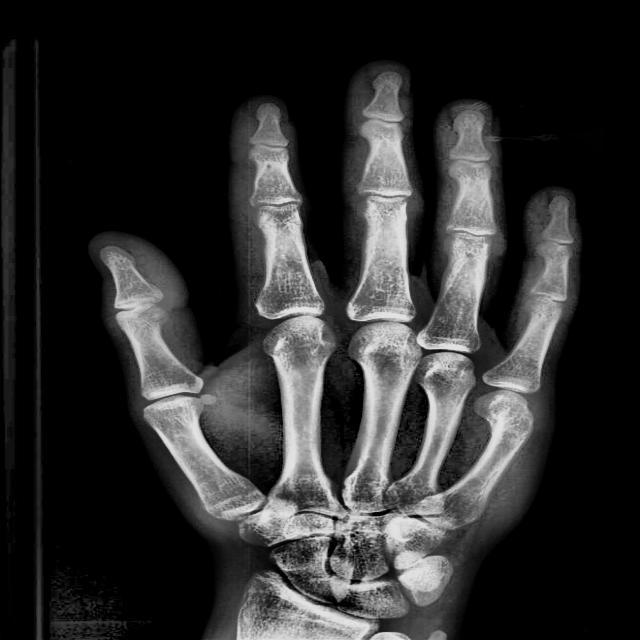fracture: (360, 197, 410, 246), (484, 400, 534, 432)
